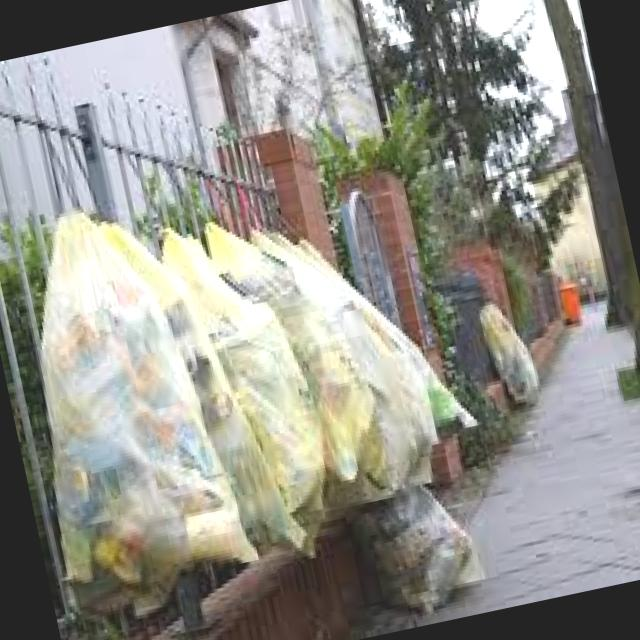garbage: (0, 144, 509, 640), (471, 282, 561, 423)
